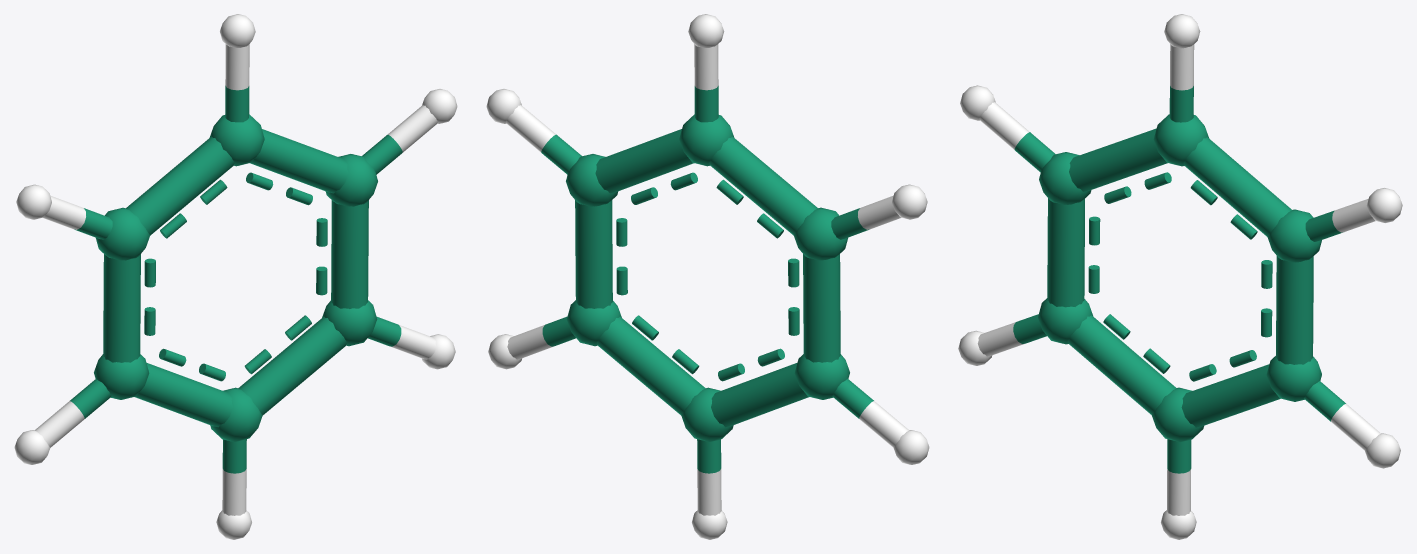
The model's file is pubchem-benzene-xyz-default.obj.
3 views of the same model, side by side, from view 1: azimuth 30°, elevation 25°; view 2: azimuth 150°, elevation 25°; view 3: azimuth 330°, elevation 25° (orthographic).
Size of the model in its own units: 4.64 by 5.29 by 0.51.
